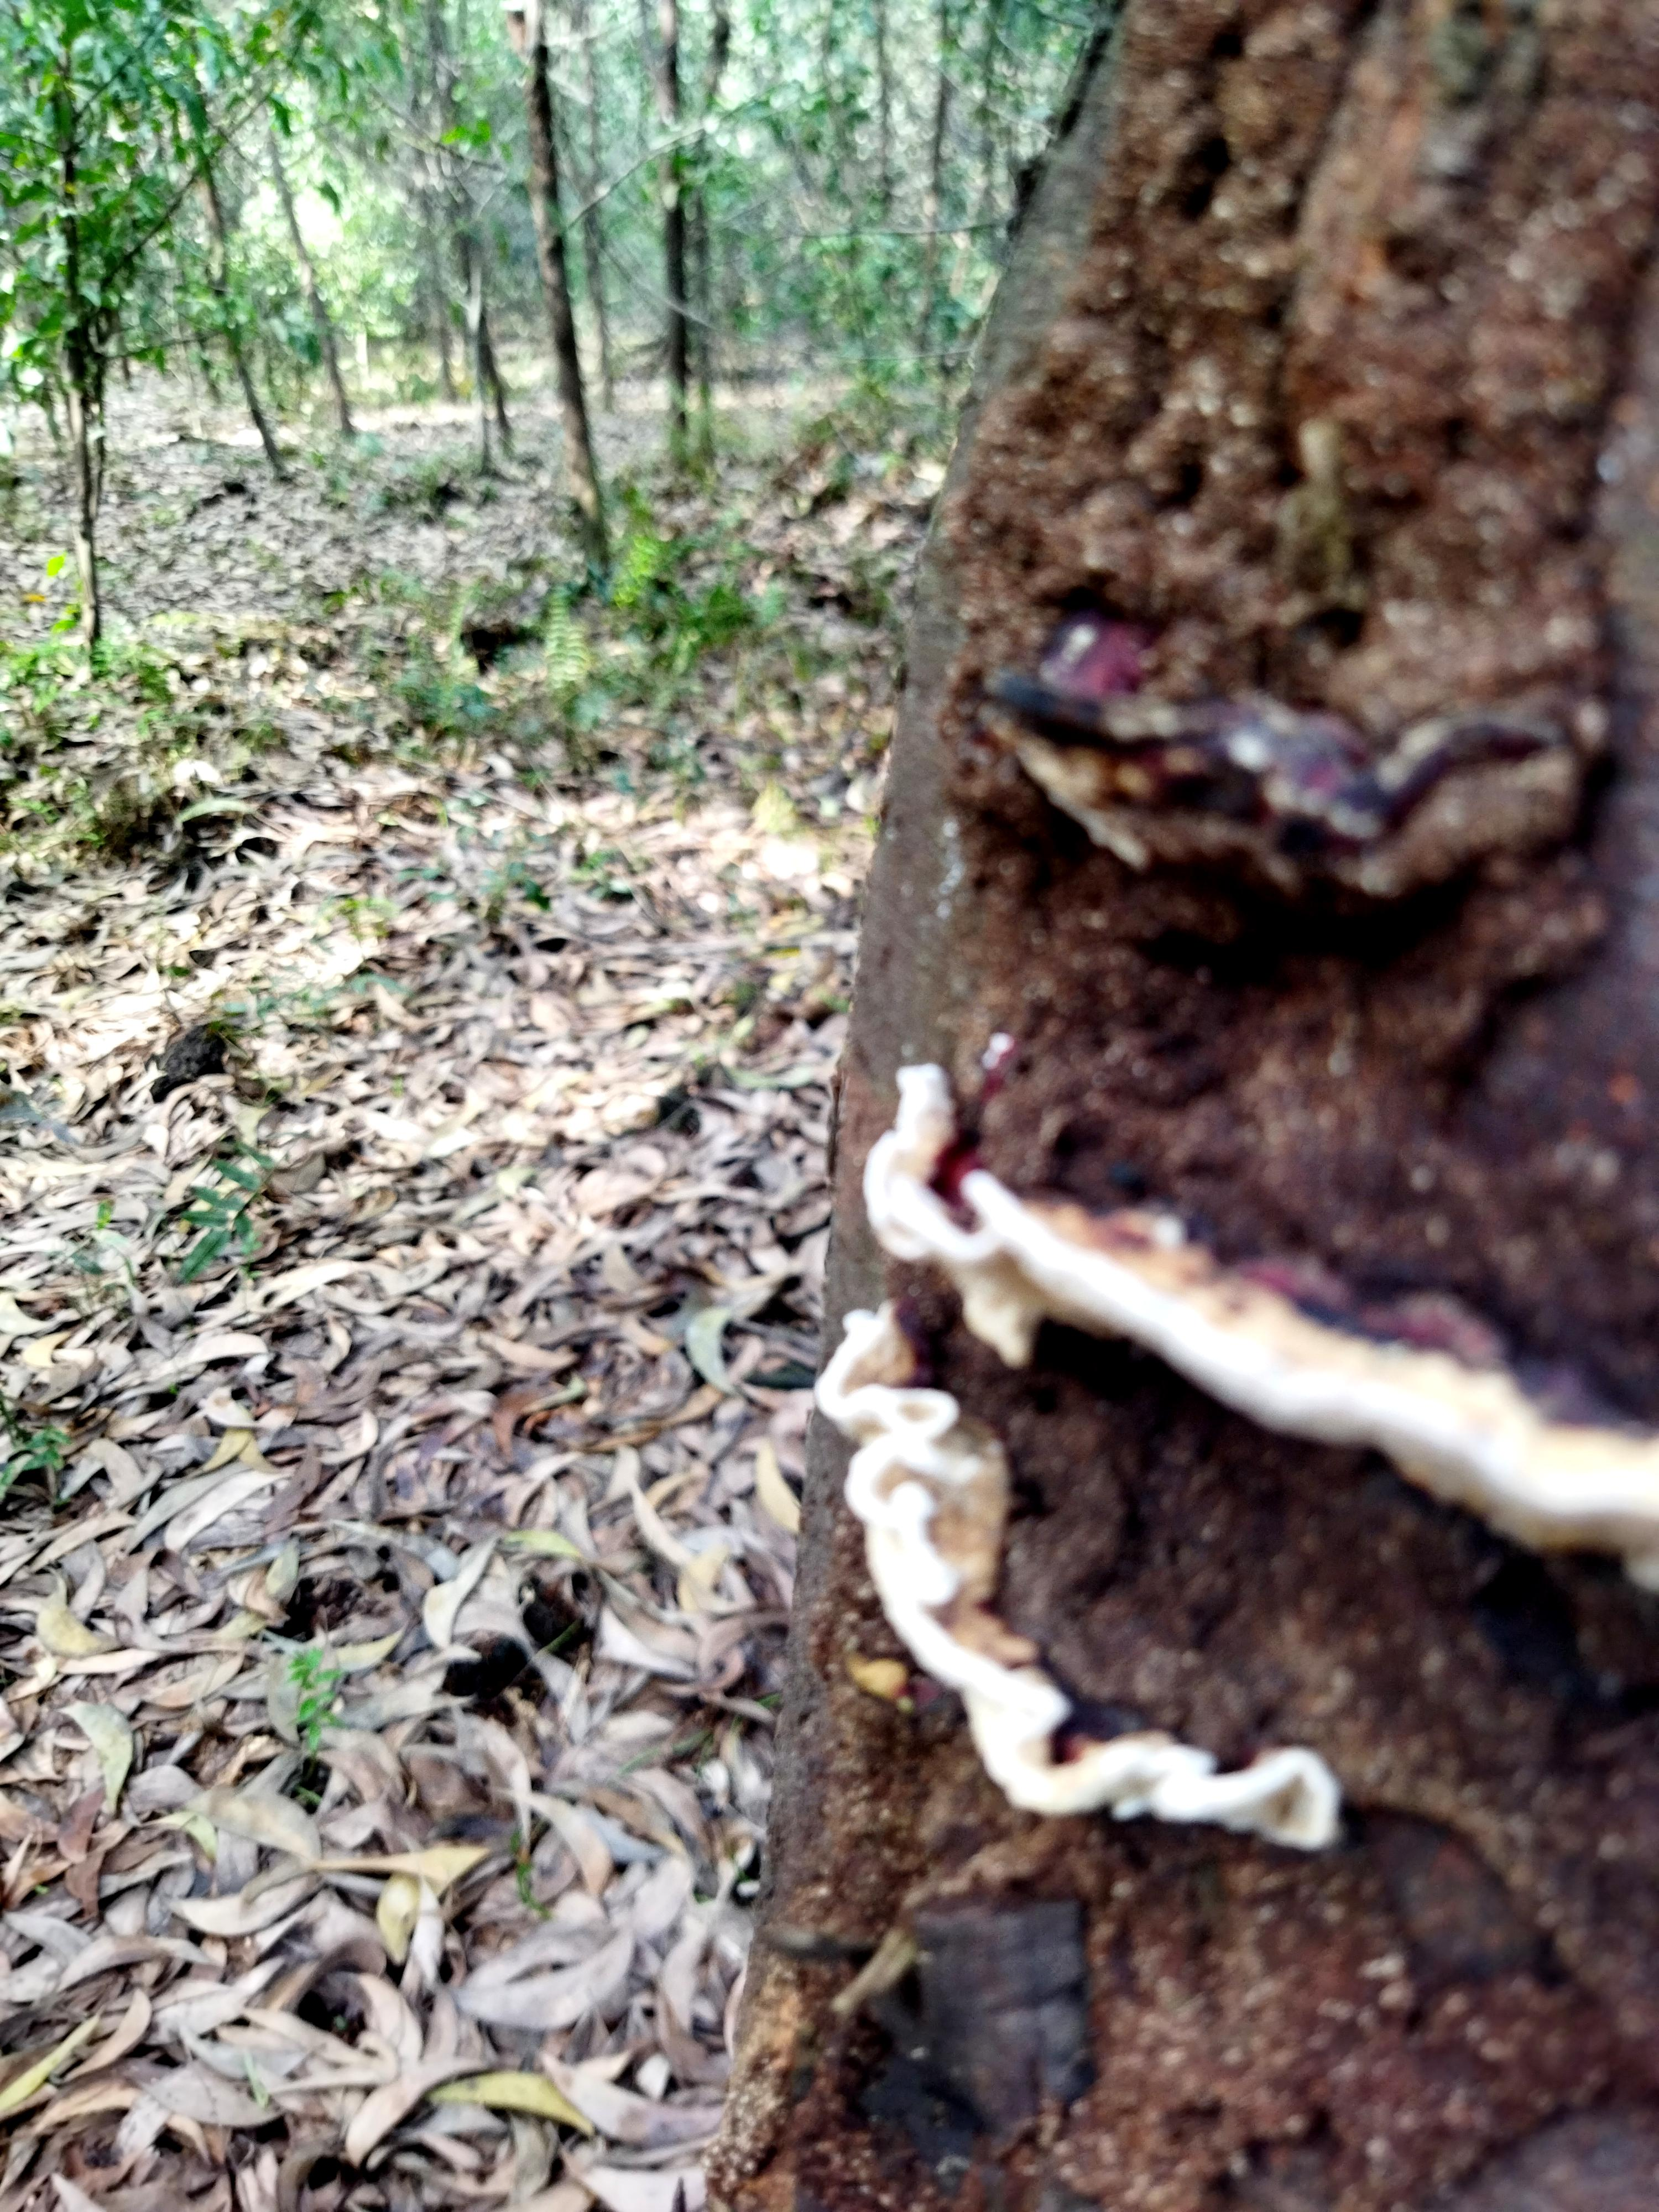Ganoderma - Fruit Body: (875, 1057, 1659, 1836), (964, 599, 1624, 885)
